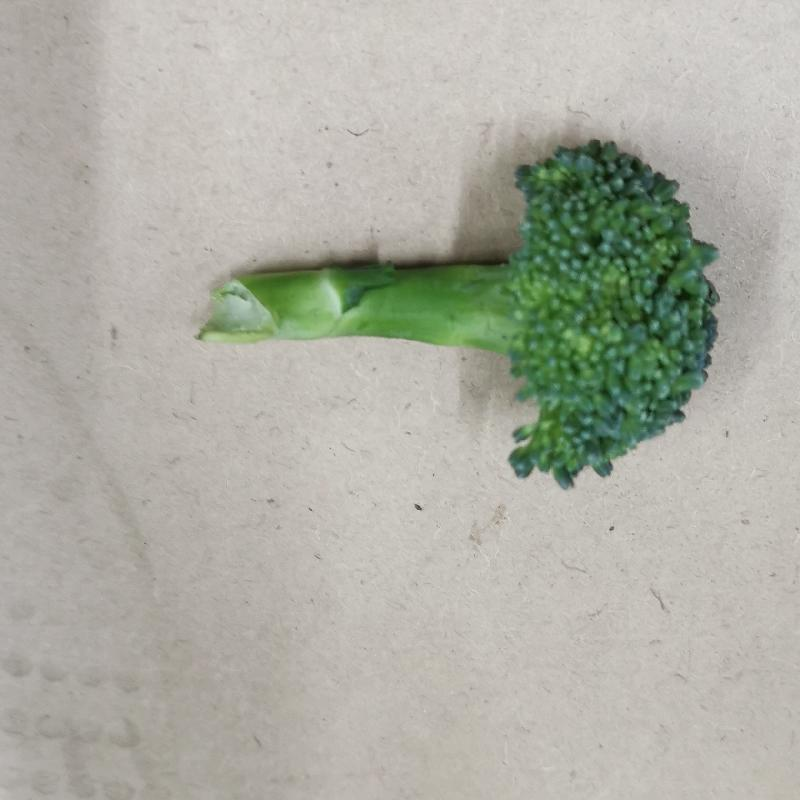broccoli: (201, 139, 724, 494)
